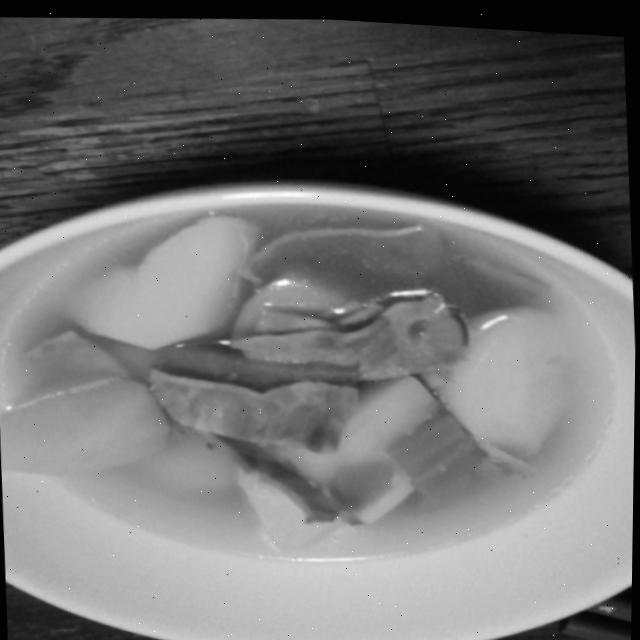汤锅炖物: (0, 143, 636, 622)
